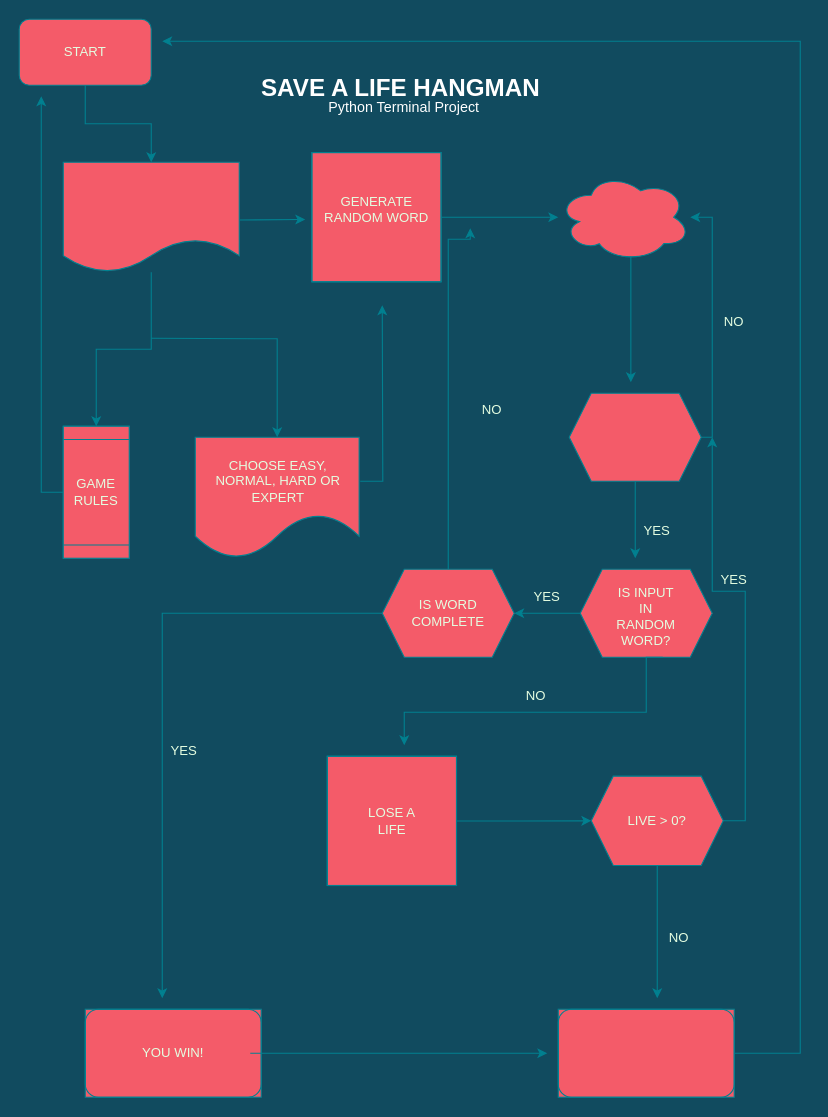
This 828x1117 diagram has some shape labels left out. Here are the shapes that lost their labels. From the top down, the centre of each, then its label:
At point (150, 216): "CHOOSE PLAY GAME, CHOOSE DIFFICULTY OR READ GAME RULES".
At point (623, 216): "INPUT LETTER".
At point (634, 436): "IS INPUT VALID?".
At point (645, 1052): "GAME OVER!".
